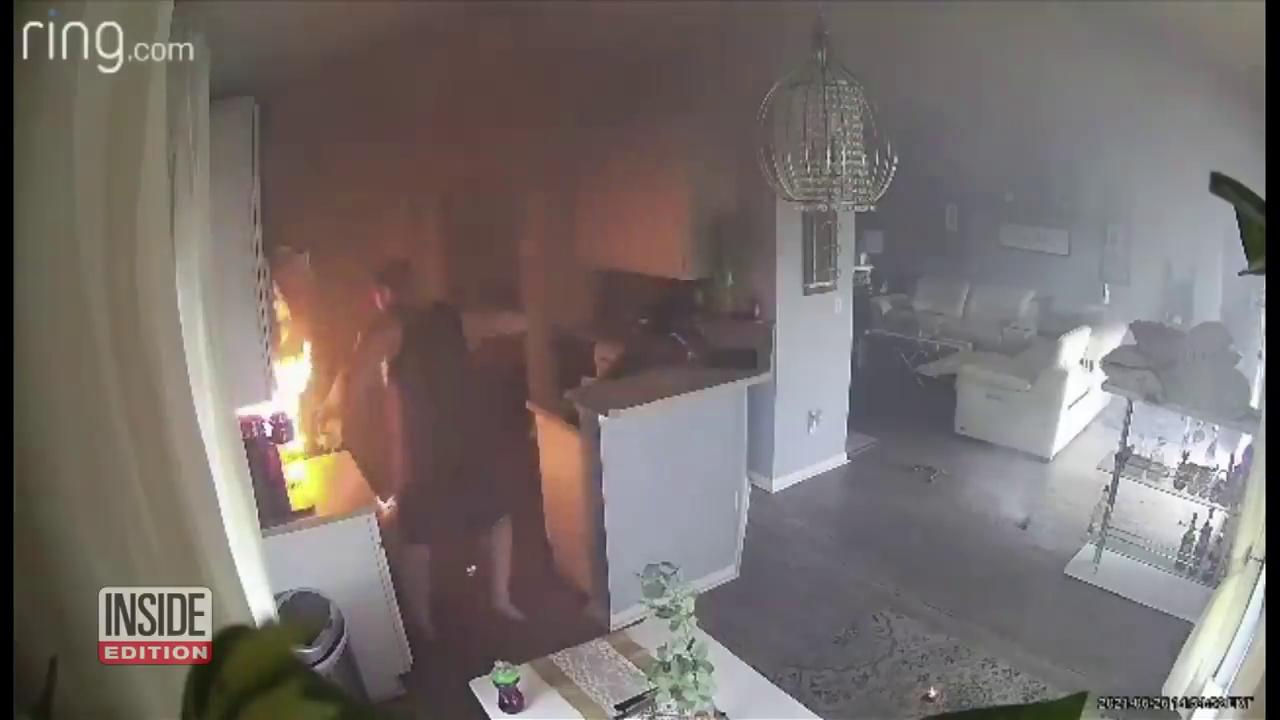Fire: (250, 250, 363, 486)
